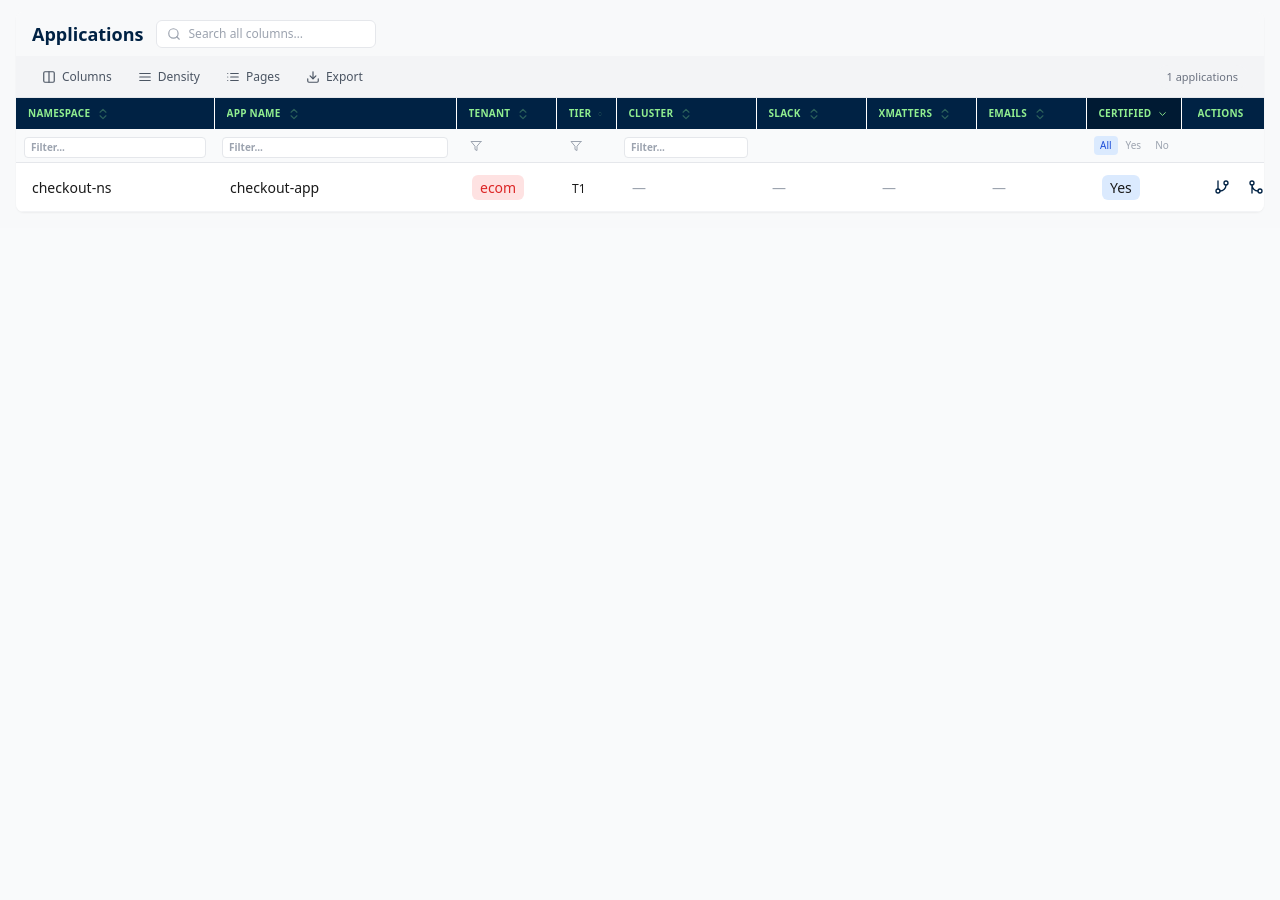
Test: ApplicationsView sub-components › ConfirmModal (via delete dependency) › cancels the confirm modal when Cancel is clicked
Click the button titled "View downstream dependencies": (1222, 187) [1208,173,1236,201]
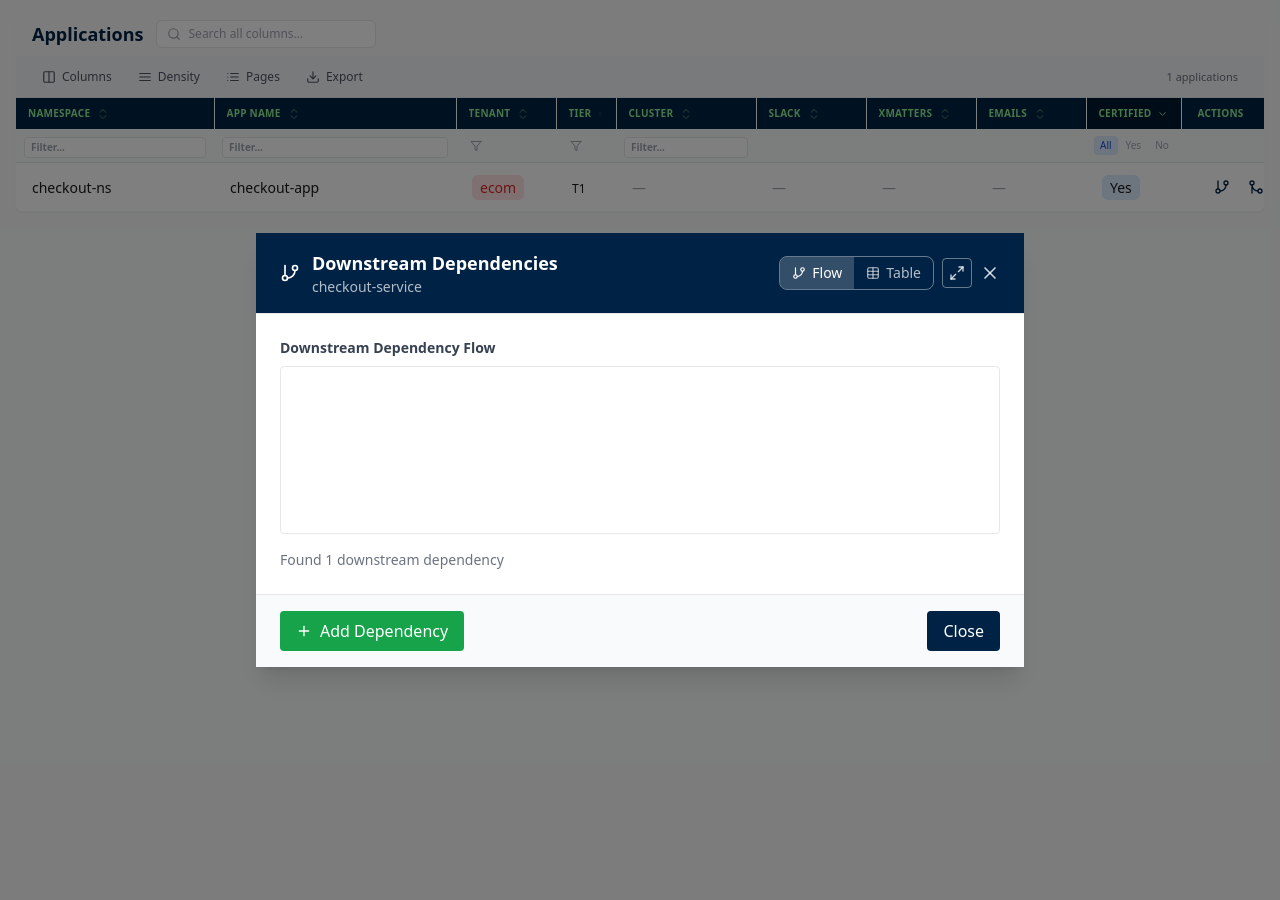
Check: the button titled "Table view" is shown
Click the button titled "Table view": (894, 273) [854,257,933,289]
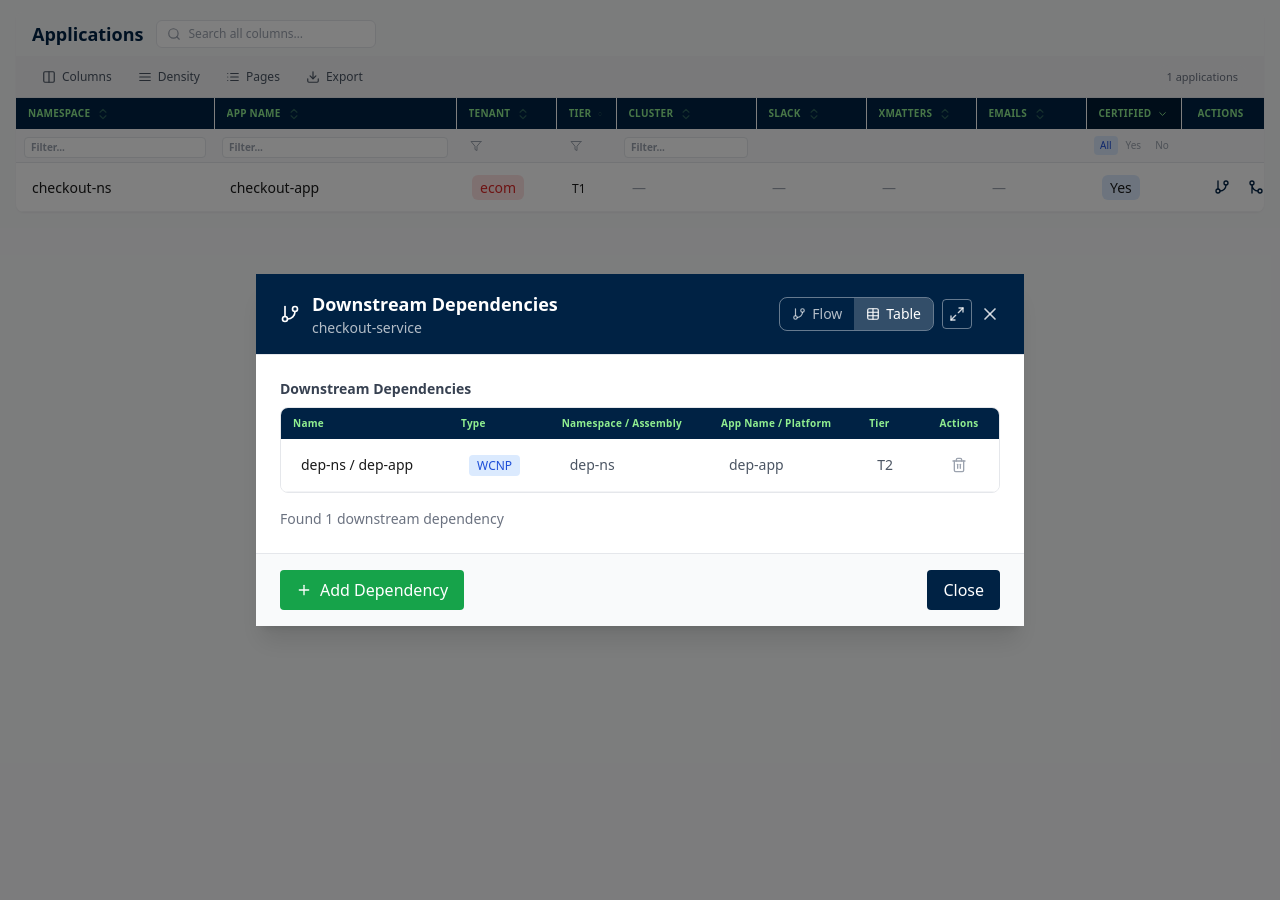
Check: the button titled "Delete dependency" is shown
Click the button titled "Delete dependency": (959, 465) [945,451,973,479]
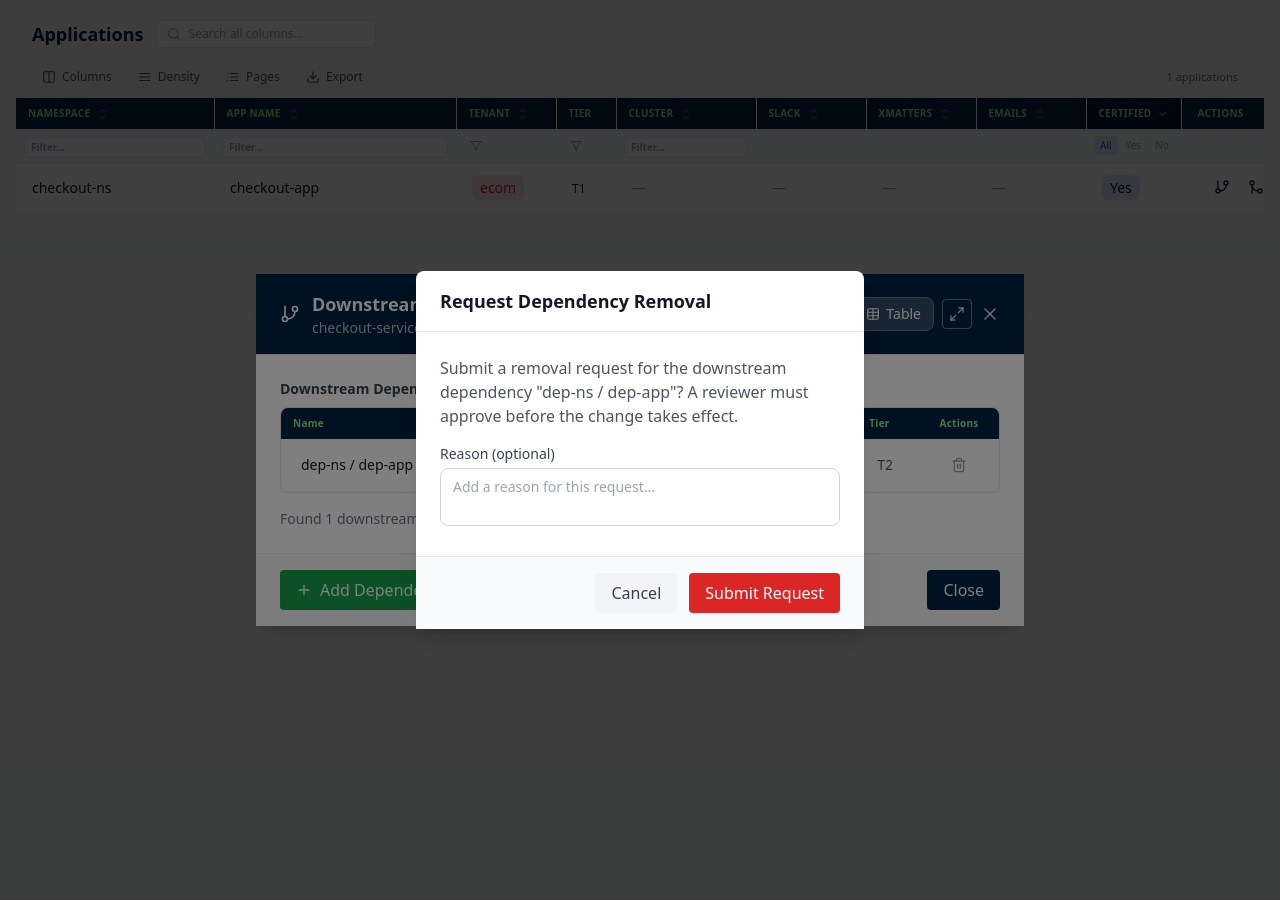
Check: the heading "Request Dependency Removal" is shown, box [440,289,711,313]
Click the button "Cancel": (636, 593) [596,573,677,613]
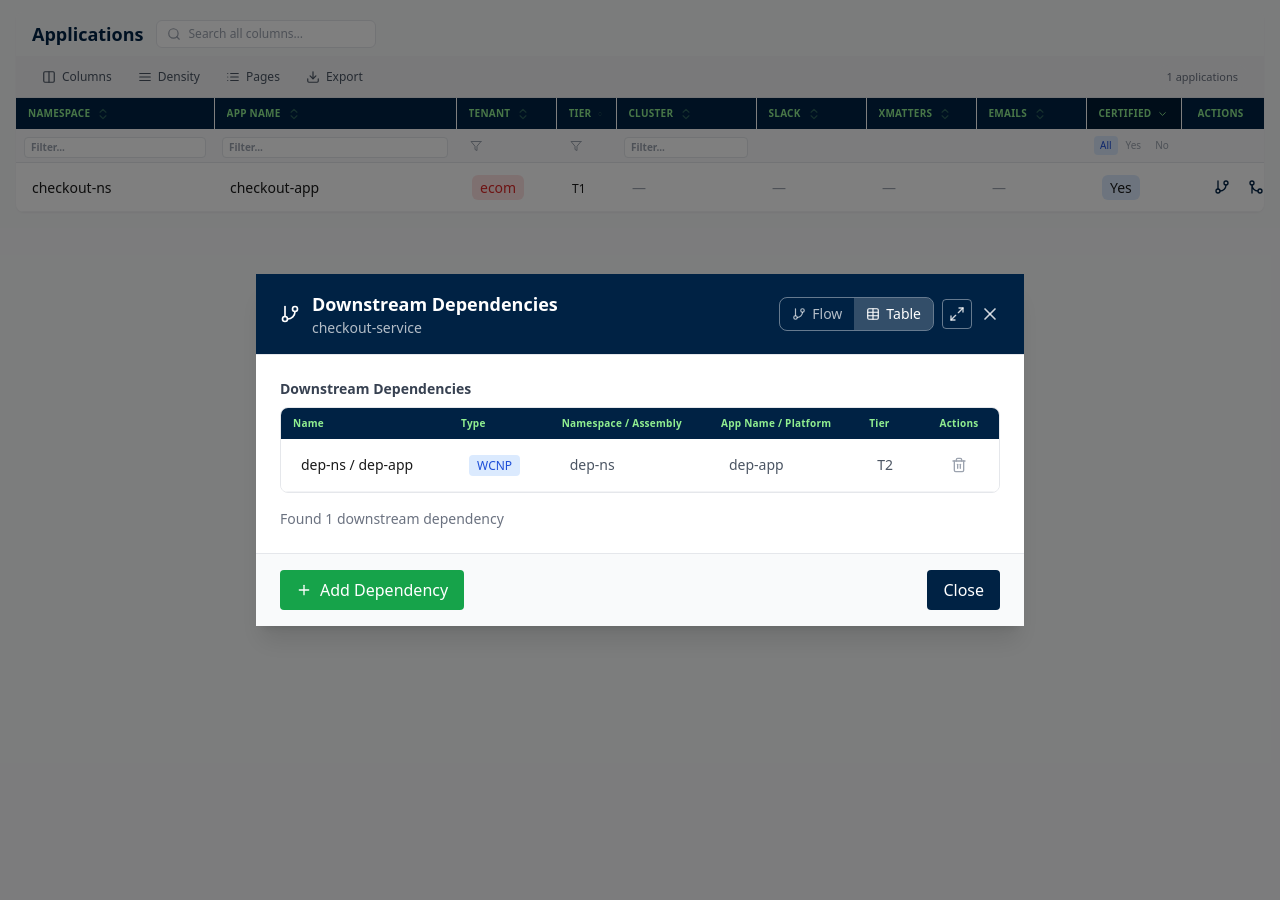
Check: the heading "Request Dependency Removal" is gone
